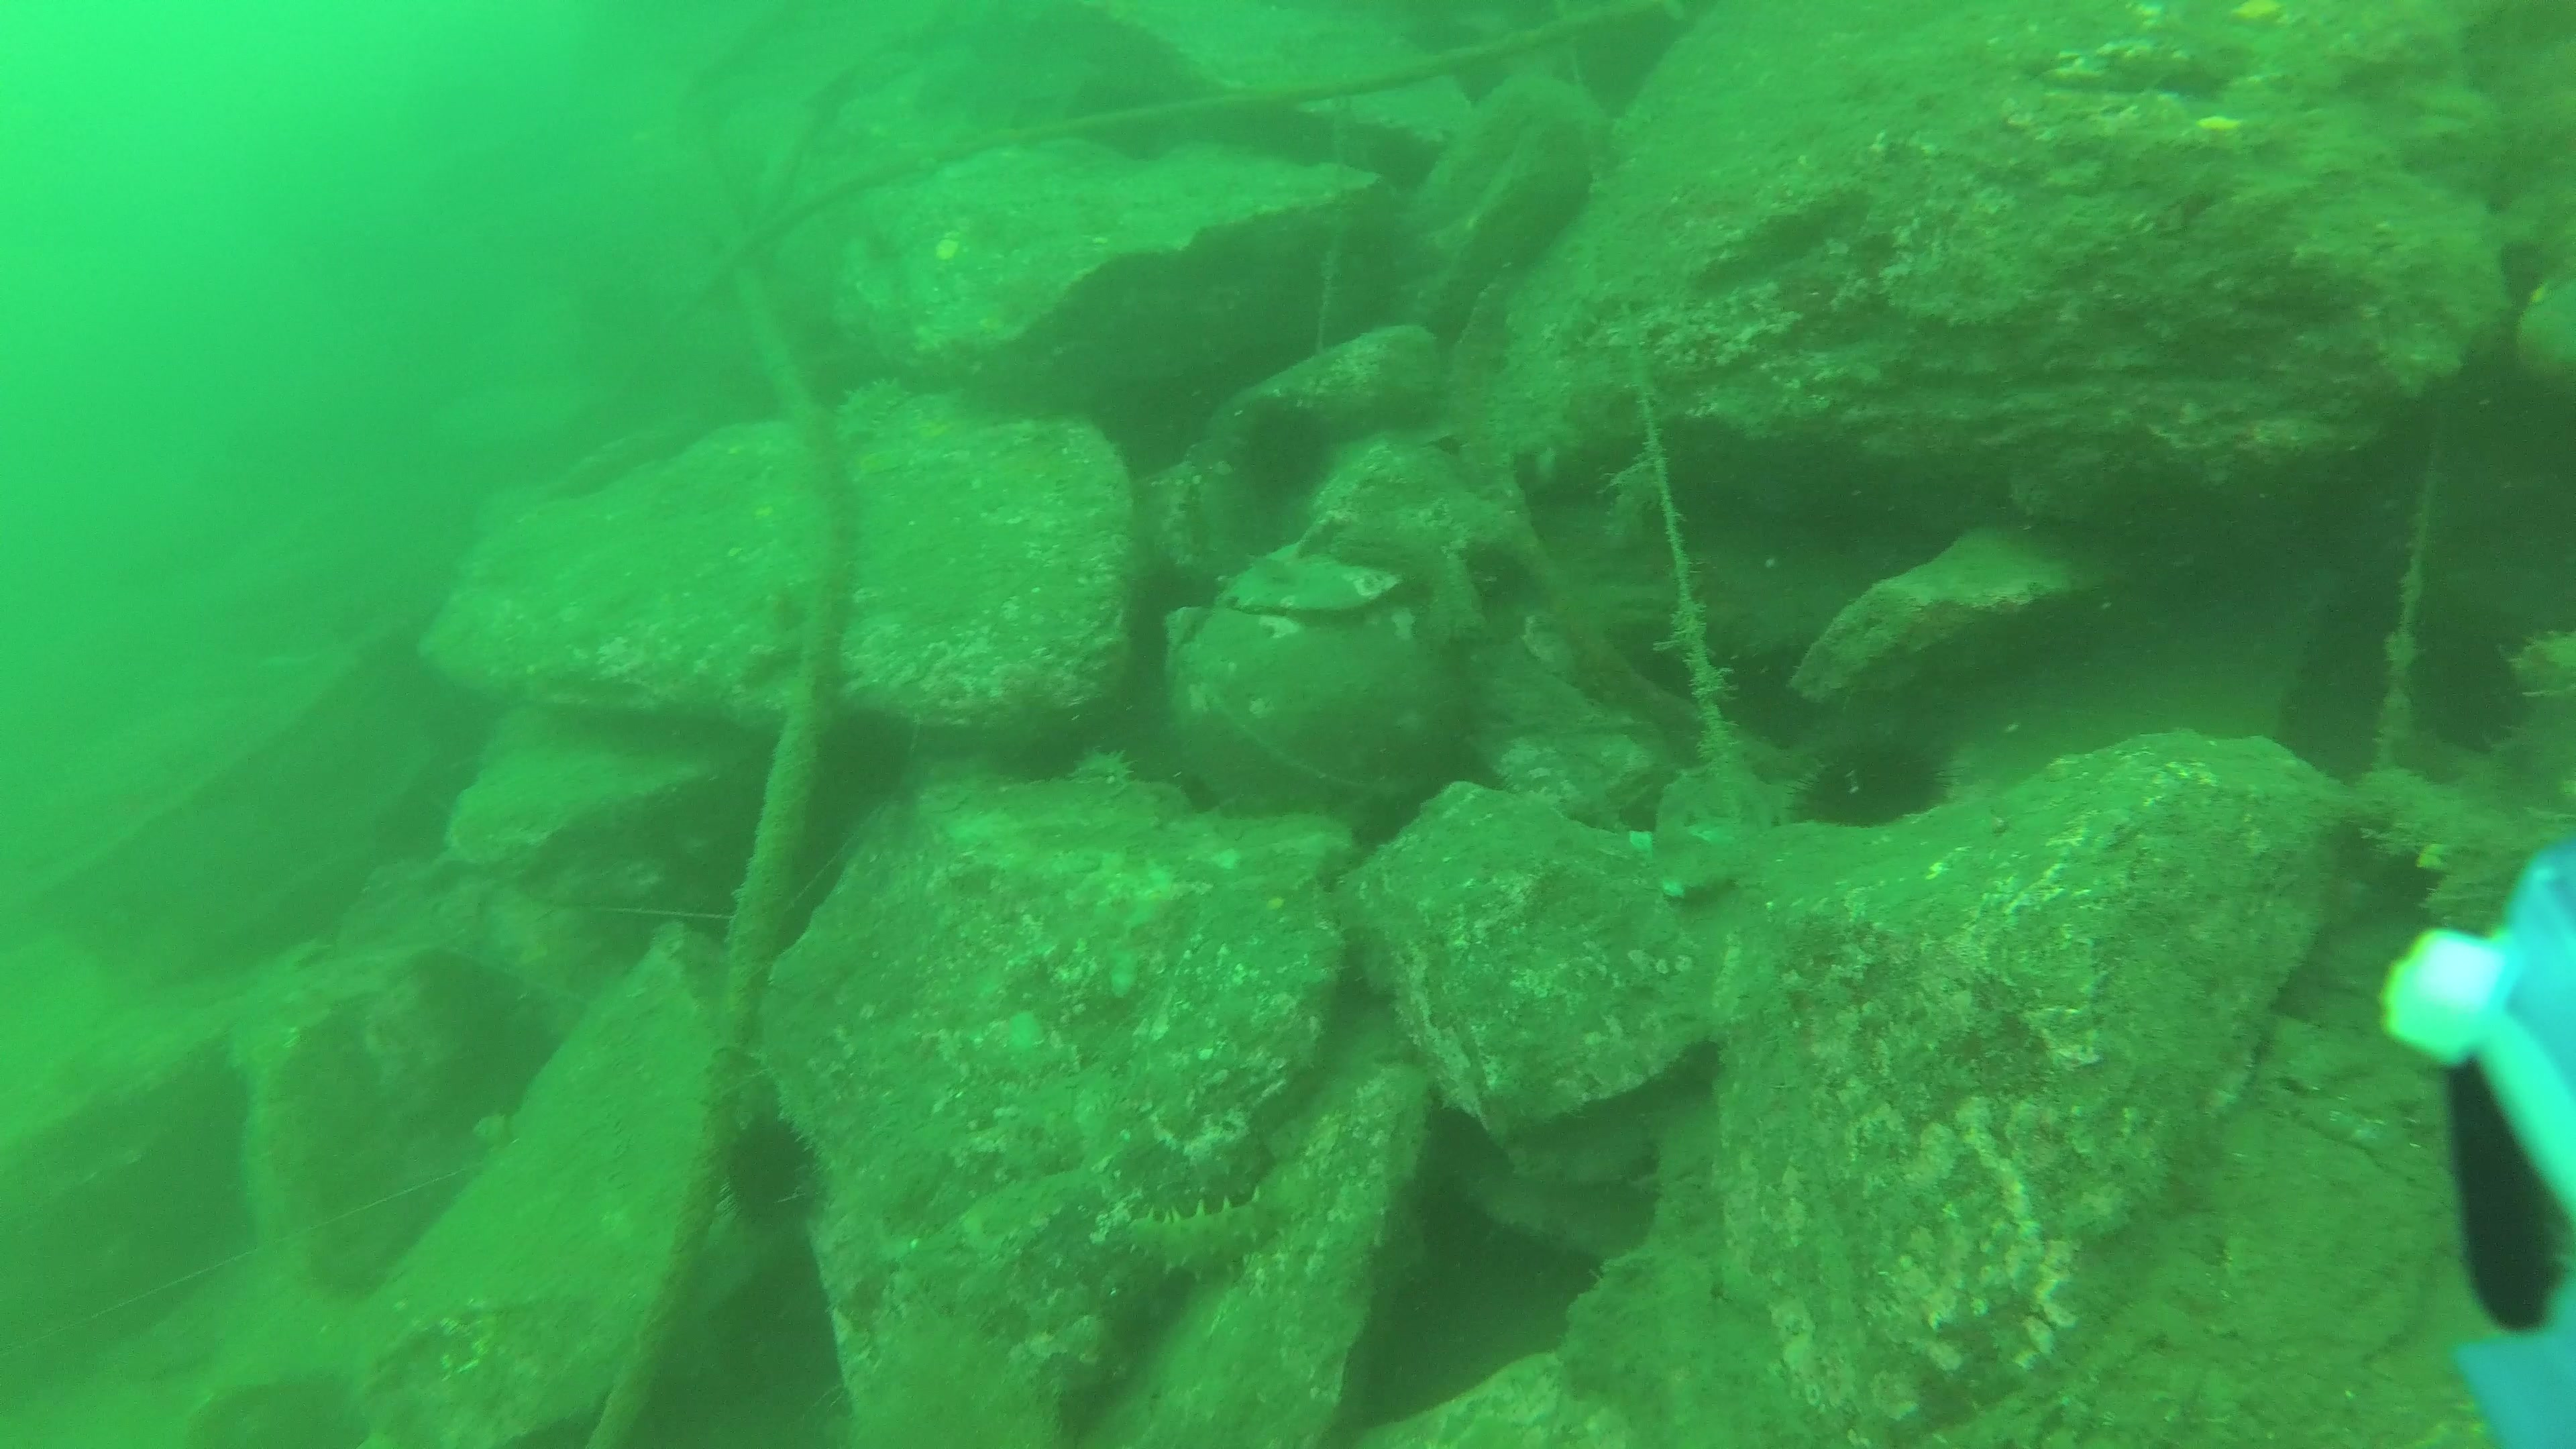echinus: (1782, 717, 1962, 839), (709, 1109, 828, 1251)
holothurian: (1093, 1192, 1286, 1292)
